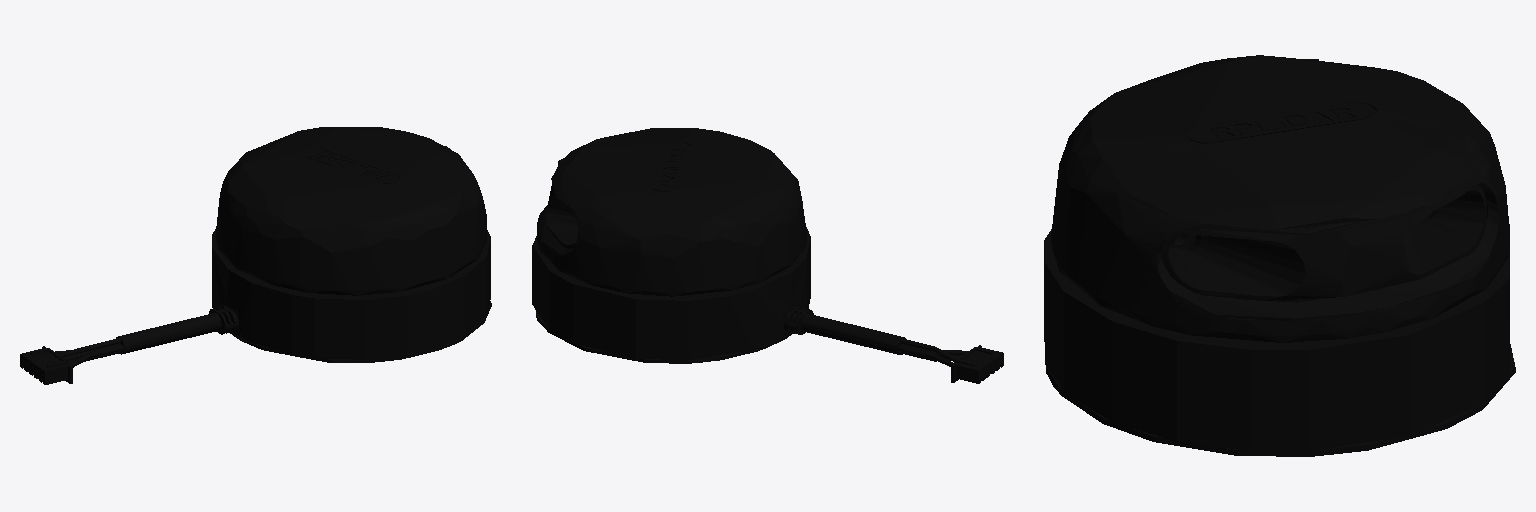
The robot description file, URDF, robot "ev3infoumons":
<?xml version="1.0"?>
<robot name="ev3infoumons">
  <link name="base_footprint">
    <visual>
      <geometry>
        <mesh filename="package://ev3infoumons_description/meshes/base_pivoted.dae"/>
      </geometry>
    </visual>
  </link>
  <link name="base_laser">
    <visual>
      <geometry>
        <!--cylinder length="0.0408" radius="0.03625"/>-->
        <mesh filename="package://ev3infoumons_description/meshes/rplidar.dae"/>
      </geometry>
    </visual>
  </link>
  <joint name="base_footprint_to_base_laser" type="fixed">
    <parent link="base_footprint"/>
    <child link="base_laser"/>
    <origin xyz="0.02 0 0.095"/>
  </joint>
</robot>

--- What the picture shows (computed from the rendered views, not written in the file) ---
3 views of the same robot in one strip: view 1: azimuth 30°, elevation 25°; view 2: azimuth 150°, elevation 25°; view 3: azimuth 270°, elevation 25° (orthographic).
Model ev3infoumons with 2 links and 1 joints (1 fixed), rooted at base_footprint, posed every joint at zero.
Links seen in each view (by area): view 1: base_laser; view 2: base_laser; view 3: base_laser.
Boxes of the visible links, left/top/right/bottom form: base_laser: left=20, top=127, right=491, bottom=384; base_laser: left=532, top=128, right=1003, bottom=383; base_laser: left=1044, top=55, right=1515, bottom=456.
Bounding box of the posed robot: 0.1359 × 0.0744 × 0.0408 m (x, y, z).
Meshes: 2 distinct files referenced, 1 mesh visuals loaded (1 Collada DAE); not drawn: 1 (reference not matched to a file when rendering).
